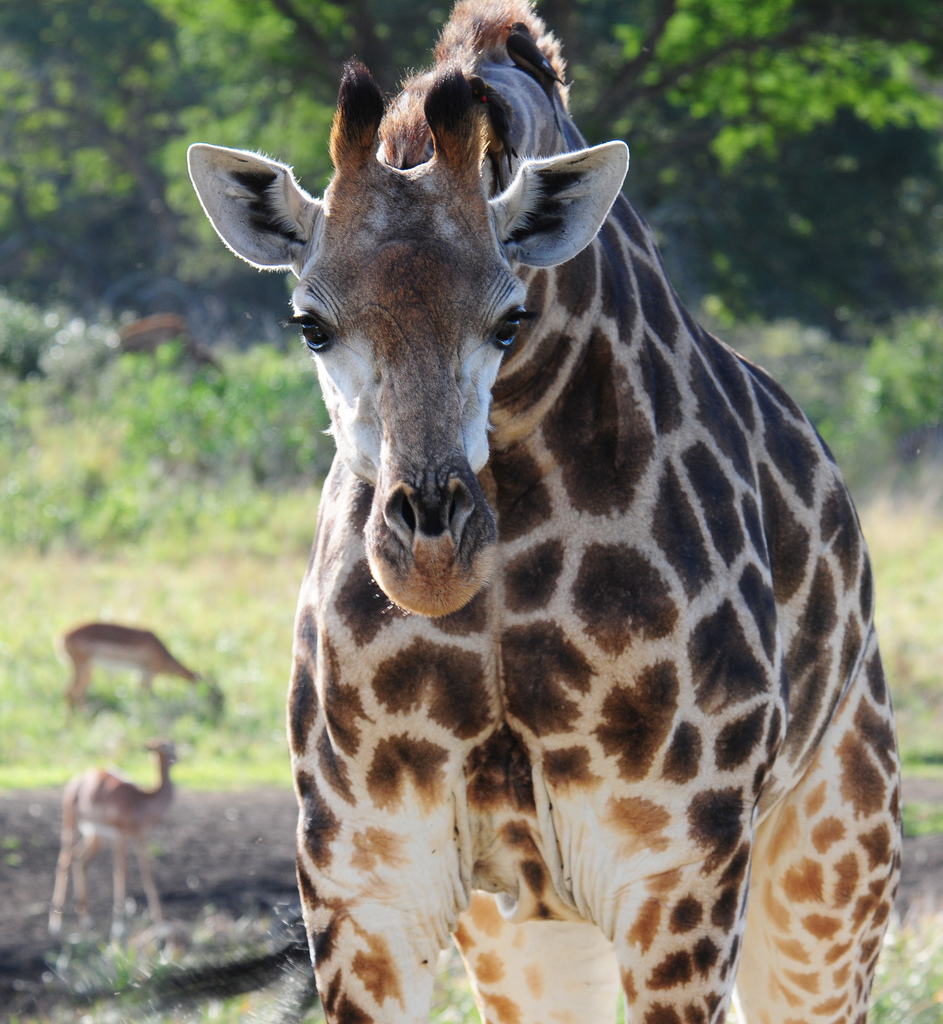giraffe: (213, 37, 913, 1000)
